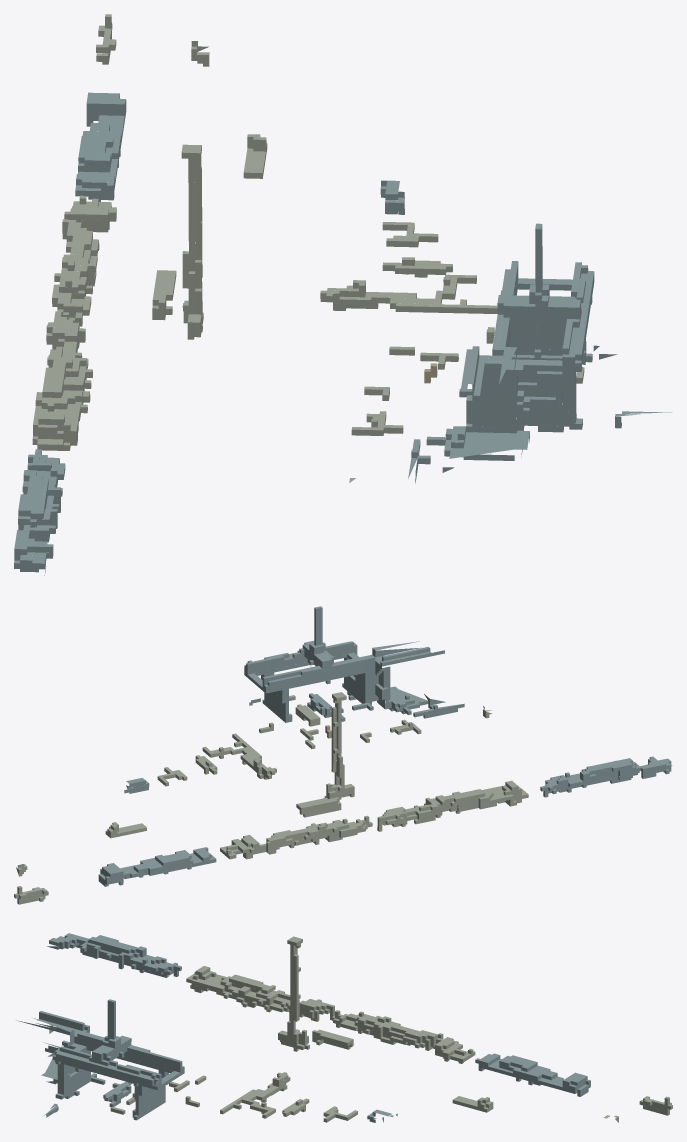
The picture shows the model from 3 angles, top to bottom: view 1: azimuth 30°, elevation 25°; view 2: azimuth 150°, elevation 25°; view 3: azimuth 270°, elevation 25°; orthographic projection. The views are drawn at different scales.
Visible parts, largest first — view 1: measured-industrial; view 2: measured-industrial; view 3: measured-industrial.
Part boxes in pixels (<box>): measured-industrial: <box>14,14,672,575</box>; measured-industrial: <box>14,606,672,904</box>; measured-industrial: <box>16,933,672,1122</box>.
Size of the model in its own units: 180 by 48.5 by 264.
